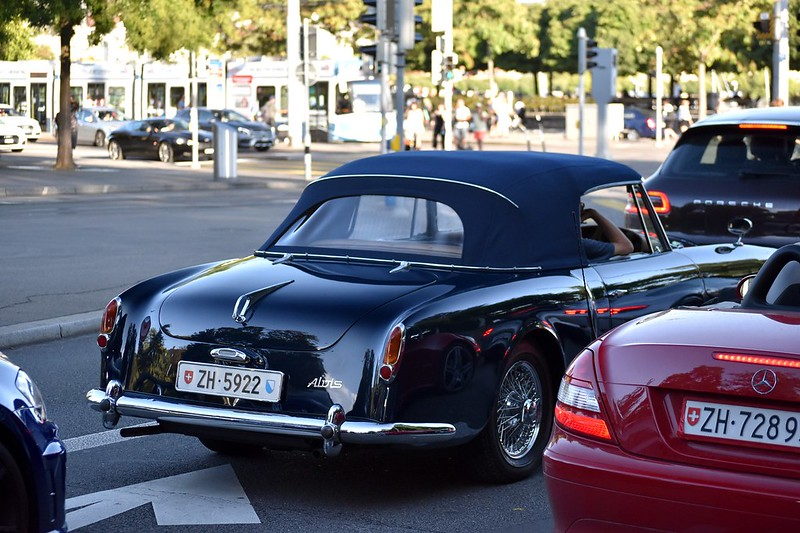number_plate: (673, 391, 800, 459), (170, 359, 289, 409)
